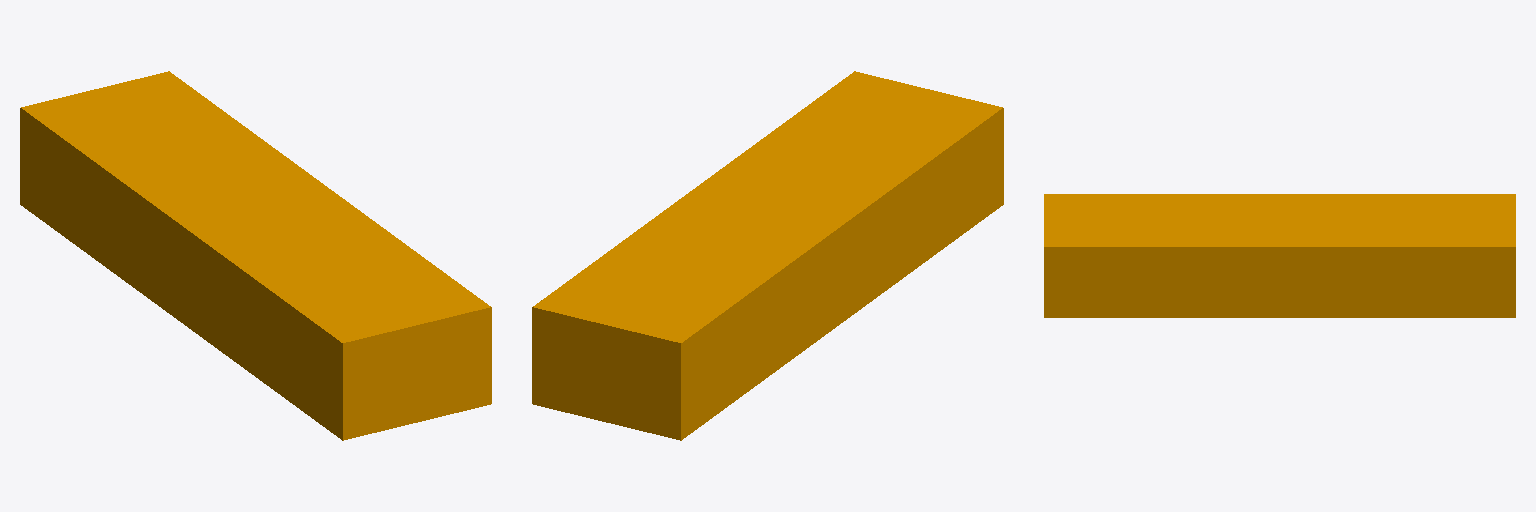
robot.urdf — box_small_2:
<?xml version="1.0"?>
<robot name="box_small_2">
  <link name="box_small_2">
    <inertial>
      <mass value="2.125"/>
      <!-- Inertia values were calculated to be consistent with the mass and
           geometry size, assuming a uniform density. -->
      <inertia ixx="0.0108" ixy="0" ixz="0" iyy="0.0083" iyz="0" izz="0.0042"/>
    </inertial>
    <visual>
      <geometry>
        <box size=".08 .3 .05"/>
      </geometry>
    </visual>
    <collision>
      <geometry>
        <box size=".08 .3 .05"/>
      </geometry>
    </collision>
  </link>
</robot>

--- Facts derived from the render (not from the file) ---
3 views of the same robot in one strip: view 1: azimuth 30°, elevation 25°; view 2: azimuth 150°, elevation 25°; view 3: azimuth 270°, elevation 25° (orthographic).
Model box_small_2 with 1 links and 0 joints (none), rooted at box_small_2, posed all joints at 0.
Links seen in each view (by area): view 1: box_small_2; view 2: box_small_2; view 3: box_small_2.
Link boxes in pixels (bbox=[...]): box_small_2: bbox=[20, 71, 491, 440]; box_small_2: bbox=[532, 71, 1003, 440]; box_small_2: bbox=[1044, 194, 1515, 317].
Bounding box of the posed robot: 0.08 × 0.3 × 0.05 m (x, y, z).
Geometry: primitives only (box / cylinder / sphere), no mesh files.